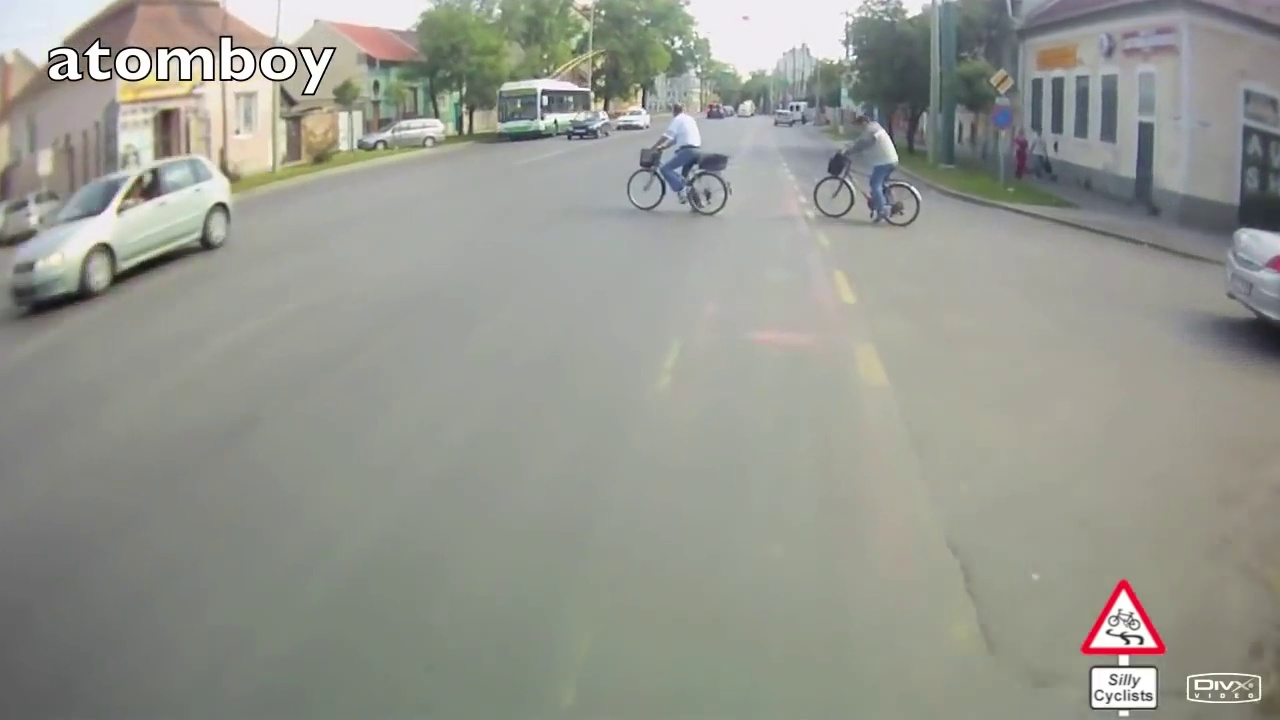cyclist_side: (812, 111, 928, 233), (630, 102, 731, 217)
